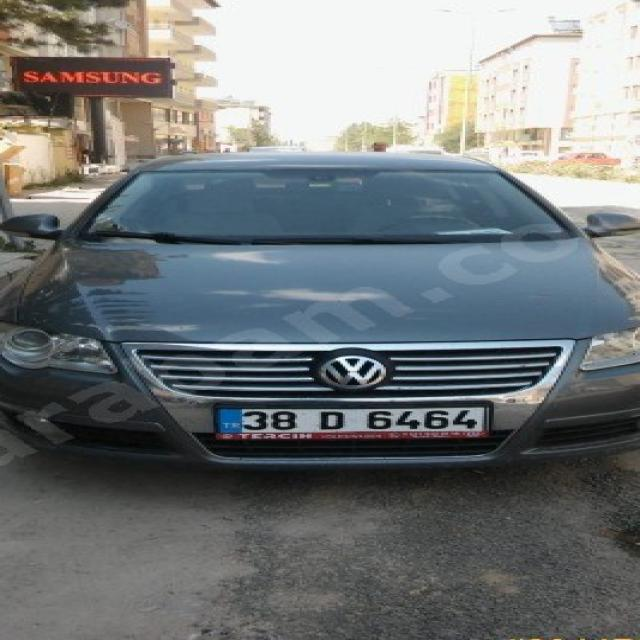license_plate: (216, 408, 487, 433)
